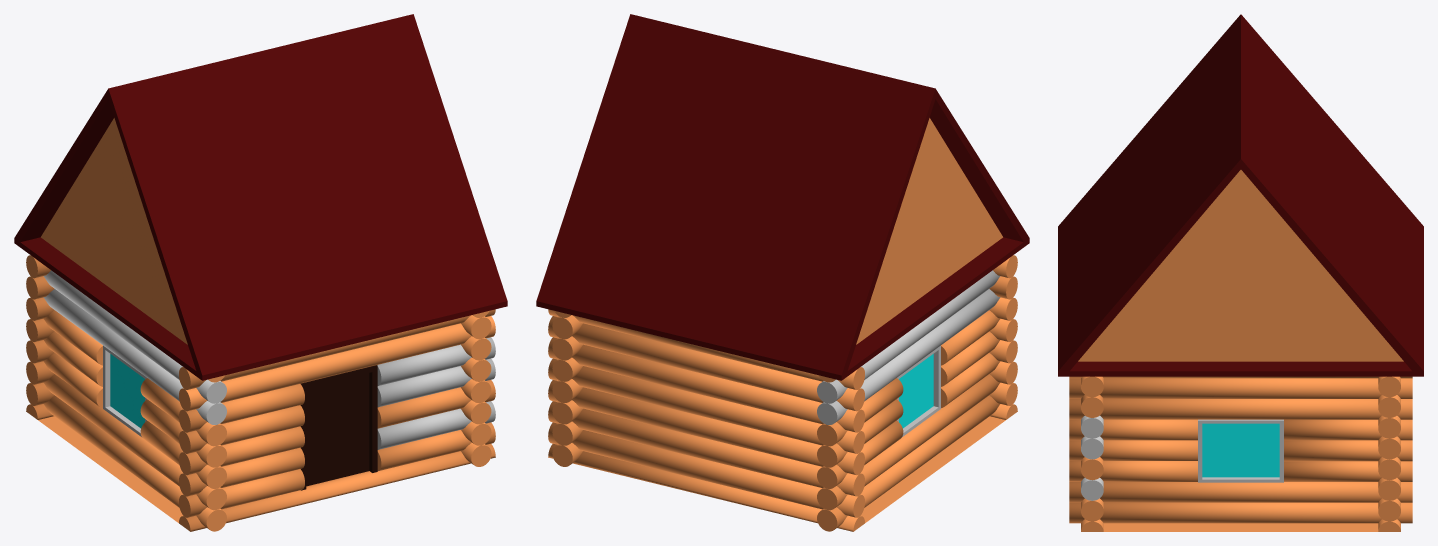
The picture shows the model from 3 angles, left to right: view 1: azimuth 30°, elevation 25°; view 2: azimuth 150°, elevation 25°; view 3: azimuth 270°, elevation 25°; orthographic projection. The views are drawn at different scales.
Visible parts, largest first — view 1: Плоскость.045_Плоскость.051, Плоскость.001_Плоскость.007, Плоскость.046_Плоскость.052, Плоскость.000_Плоскость.006, Плоскость.011_Плоскость.017, Цилиндр.030_Цилиндр.118, Цилиндр.031_Цилиндр.119, Цилиндр.039_Цилиндр.127, Цилиндр.038_Цилиндр.126, Плоскость.050_Плоскость.056, Плоскость.002_Плоскость.008, Цилиндр.007_Цилиндр.095 (+16 smaller); view 2: Плоскость.045_Плоскость.051, Плоскость.001_Плоскость.007, Цилиндр.023_Цилиндр.111, Цилиндр.026_Цилиндр.114, Цилиндр.022_Цилиндр.110, Цилиндр.027_Цилиндр.115, Цилиндр.024_Цилиндр.112, Цилиндр.025_Цилиндр.113, Цилиндр.029_Цилиндр.117, Цилиндр.030_Цилиндр.118, Цилиндр.031_Цилиндр.119, Цилиндр.039_Цилиндр.127 (+10 smaller); view 3: Плоскость.045_Плоскость.051, Плоскость.051_Плоскость.057, Цилиндр.011_Цилиндр.099, Цилиндр.020_Цилиндр.108, Цилиндр.012_Цилиндр.100, Цилиндр.019_Цилиндр.107, Плоскость.048_Плоскость.054, Плоскость.002_Плоскость.008, Цилиндр.017_Цилиндр.105, Цилиндр.015_Цилиндр.103, Цилиндр.018_Цилиндр.106, Цилиндр.014_Цилиндр.102 (+18 smaller).
Part boxes in pixels (<box>): Плоскость.045_Плоскость.051: <box>14,14,507,380</box>; Плоскость.001_Плоскость.007: <box>41,118,187,344</box>; Плоскость.046_Плоскость.052: <box>300,365,377,490</box>; Плоскость.000_Плоскость.006: <box>179,316,495,411</box>; Плоскость.011_Плоскость.017: <box>179,444,495,531</box>; Цилиндр.030_Цилиндр.118: <box>43,374,226,510</box>; Цилиндр.031_Цилиндр.119: <box>44,395,226,531</box>; Цилиндр.039_Цилиндр.127: <box>43,289,226,424</box>; Цилиндр.038_Цилиндр.126: <box>43,270,226,403</box>; Плоскость.050_Плоскость.056: <box>103,345,146,436</box>; Плоскость.002_Плоскость.008: <box>38,416,183,522</box>; Цилиндр.007_Цилиндр.095: <box>179,447,304,496</box>; Плоскость.045_Плоскость.051: <box>536,14,1029,380</box>; Плоскость.001_Плоскость.007: <box>856,118,1002,344</box>; Цилиндр.023_Цилиндр.111: <box>548,401,864,496</box>; Цилиндр.026_Цилиндр.114: <box>548,337,864,432</box>; Цилиндр.022_Цилиндр.110: <box>548,422,864,517</box>; Цилиндр.027_Цилиндр.115: <box>548,316,864,411</box>; Цилиндр.024_Цилиндр.112: <box>548,380,864,475</box>; Цилиндр.025_Цилиндр.113: <box>548,358,864,453</box>; Цилиндр.029_Цилиндр.117: <box>548,444,864,531</box>; Цилиндр.030_Цилиндр.118: <box>817,374,1000,510</box>; Цилиндр.031_Цилиндр.119: <box>817,395,999,531</box>; Цилиндр.039_Цилиндр.127: <box>817,289,1000,424</box>; Плоскость.045_Плоскость.051: <box>1058,14,1423,376</box>; Плоскость.051_Плоскость.057: <box>1078,170,1403,361</box>; Цилиндр.011_Цилиндр.099: <box>1069,502,1412,523</box>; Цилиндр.020_Цилиндр.108: <box>1069,378,1412,398</box>; Цилиндр.012_Цилиндр.100: <box>1069,482,1412,502</box>; Цилиндр.019_Цилиндр.107: <box>1069,399,1412,419</box>; Плоскость.048_Плоскость.054: <box>1202,423,1279,477</box>; Плоскость.002_Плоскость.008: <box>1103,523,1378,531</box>; Цилиндр.017_Цилиндр.105: <box>1284,440,1412,461</box>; Цилиндр.015_Цилиндр.103: <box>1069,419,1197,440</box>; Цилиндр.018_Цилиндр.106: <box>1284,419,1412,440</box>; Цилиндр.014_Цилиндр.102: <box>1069,440,1197,460</box>.
Bounding box in the file's own units: 6 × 7.2 × 6.4.
